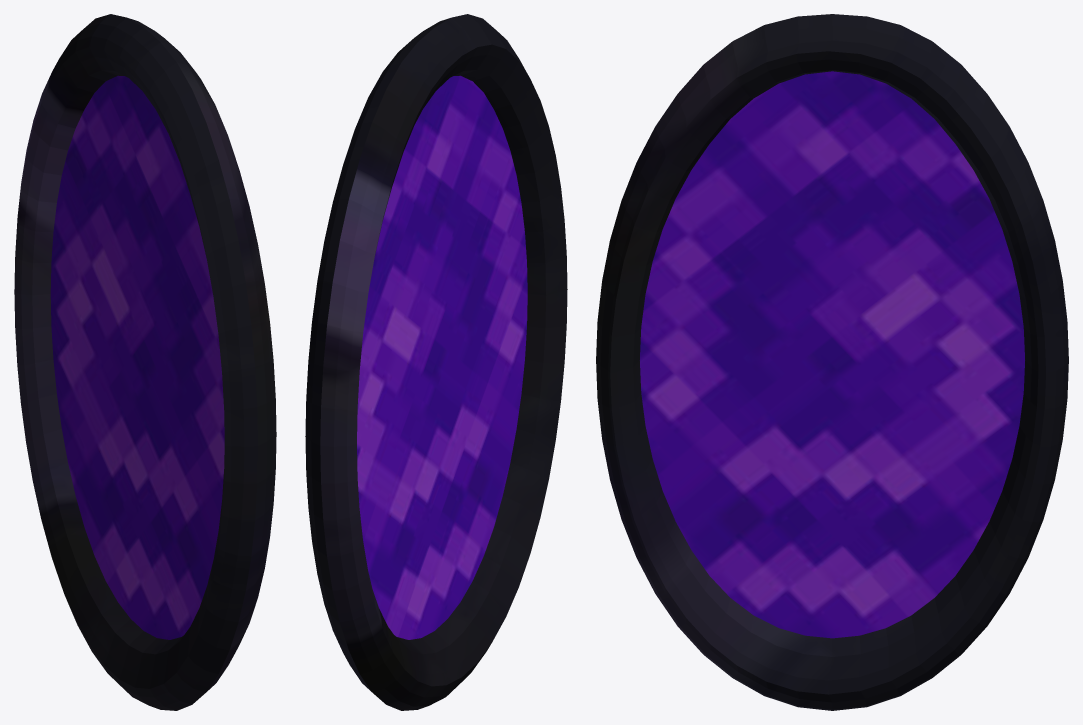
Rendered from portal.fbx.
3 views of the same model, side by side, from view 1: azimuth 30°, elevation 25°; view 2: azimuth 150°, elevation 25°; view 3: azimuth 270°, elevation 25° (orthographic). The views are drawn at different scales.
Parts seen in each view (by area): view 1: Torus; view 2: Torus; view 3: Torus.
Part boxes in pixels (x1,y1,x2,y2): Torus: (14,14,276,710); Torus: (305,14,567,710); Torus: (596,14,1068,710).
Bounding box in the file's own units: 14.2 × 178 × 110.
